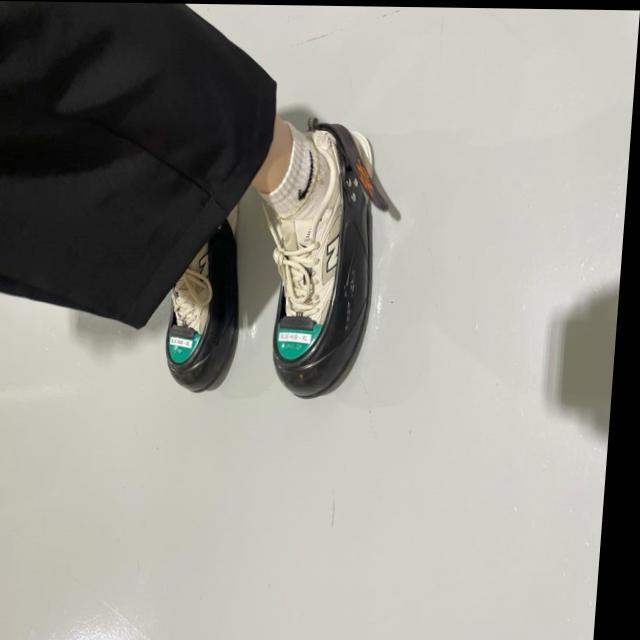shoes: (262, 128, 383, 402), (157, 210, 245, 400)
